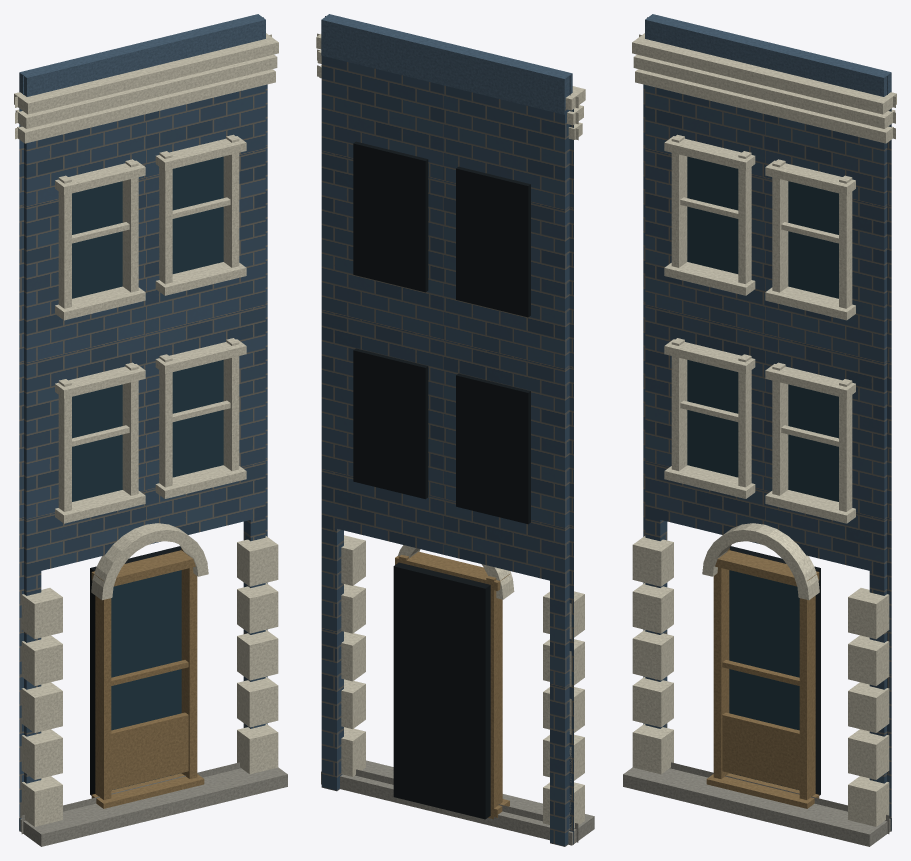
File: OFFC12_lod2.glb
3 renders of one model, left to right at view 1: azimuth 30°, elevation 25°; view 2: azimuth 150°, elevation 25°; view 3: azimuth 330°, elevation 25°, orthographic.
Parts seen in each view (by area): view 1: OFFC12_FRONT_LOD2; view 2: OFFC12_FRONT_LOD2; view 3: OFFC12_FRONT_LOD2.
Boxes of the visible parts, <box> form: OFFC12_FRONT_LOD2: <box>14,14,287,846</box>; OFFC12_FRONT_LOD2: <box>316,14,594,846</box>; OFFC12_FRONT_LOD2: <box>623,14,896,846</box>.
Size of the model in its own units: 3.44 by 9.66 by 0.68.
8 materials, 6 textured.
